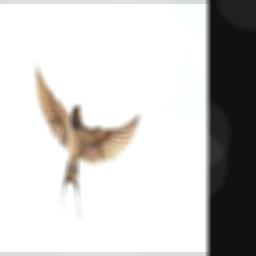Swallow: (35, 61, 140, 222)
